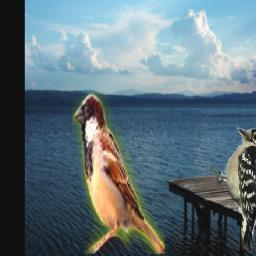Sparrow: (73, 92, 166, 254)
Woodpecker: (210, 126, 256, 255)
